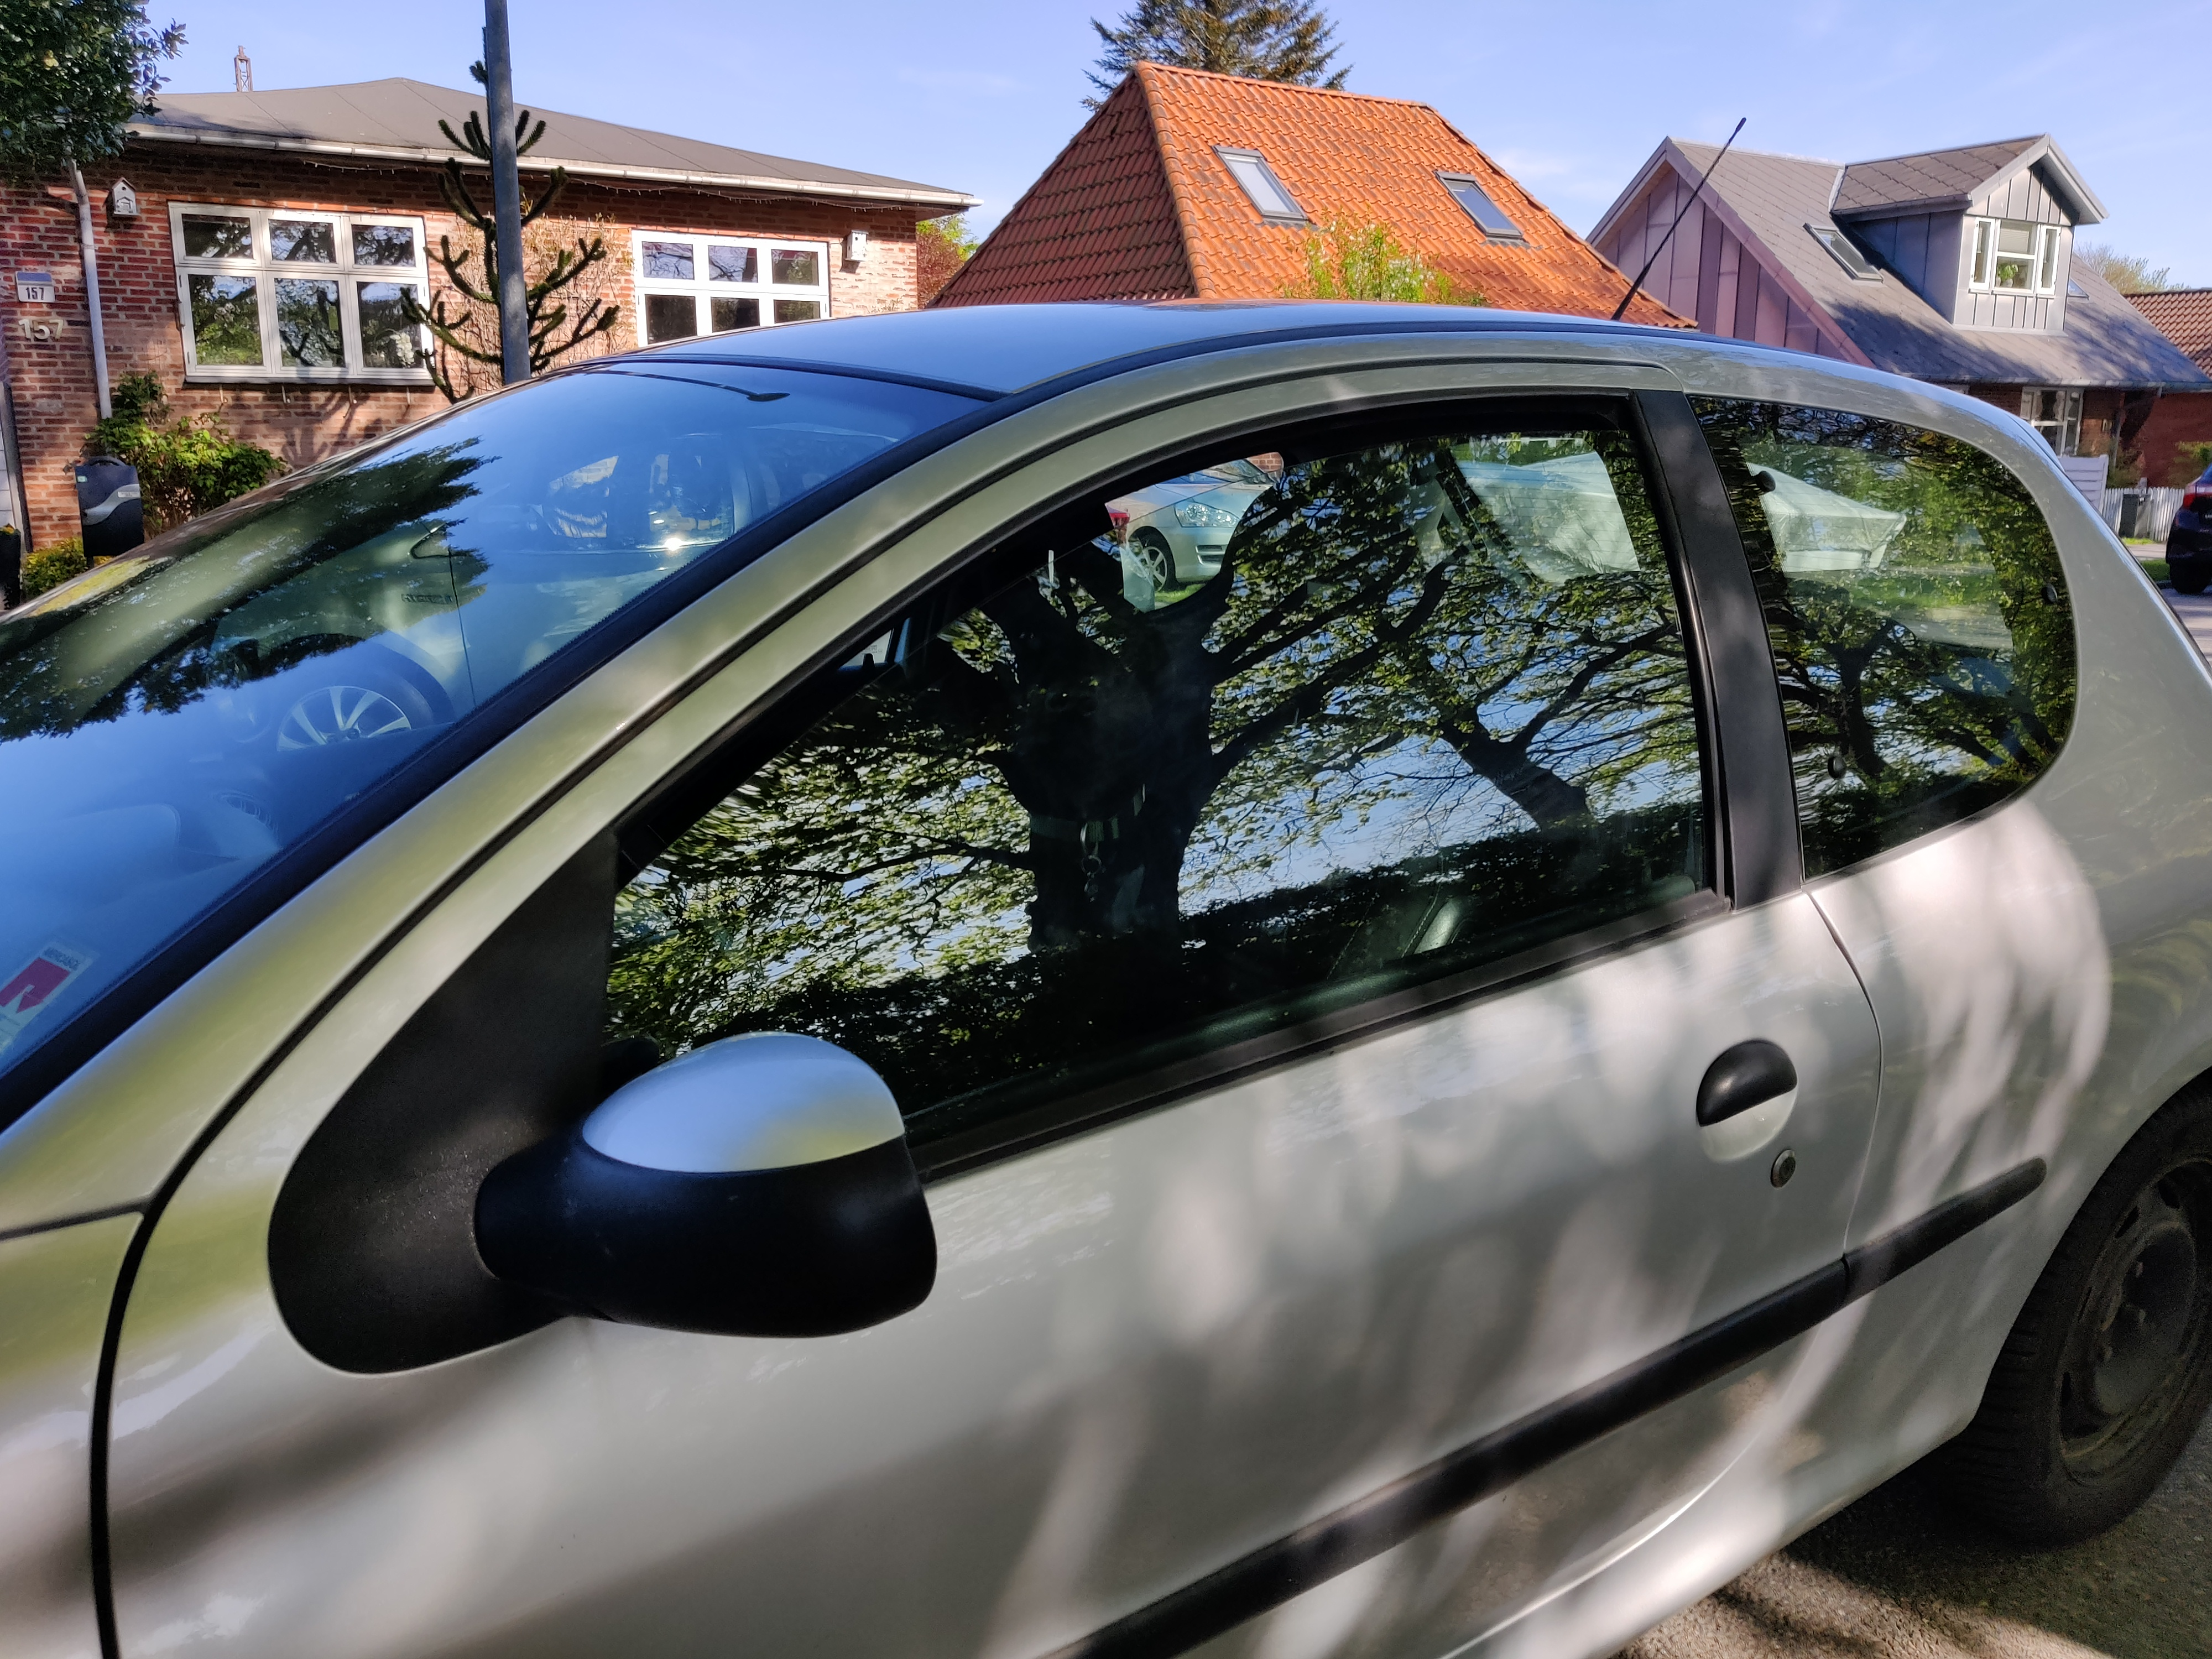Dog: (956, 566, 1191, 962)
